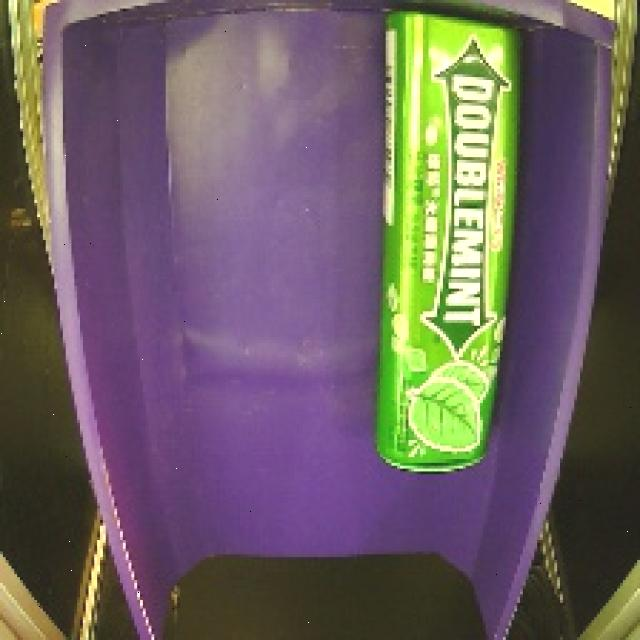metal: (364, 0, 542, 490)
